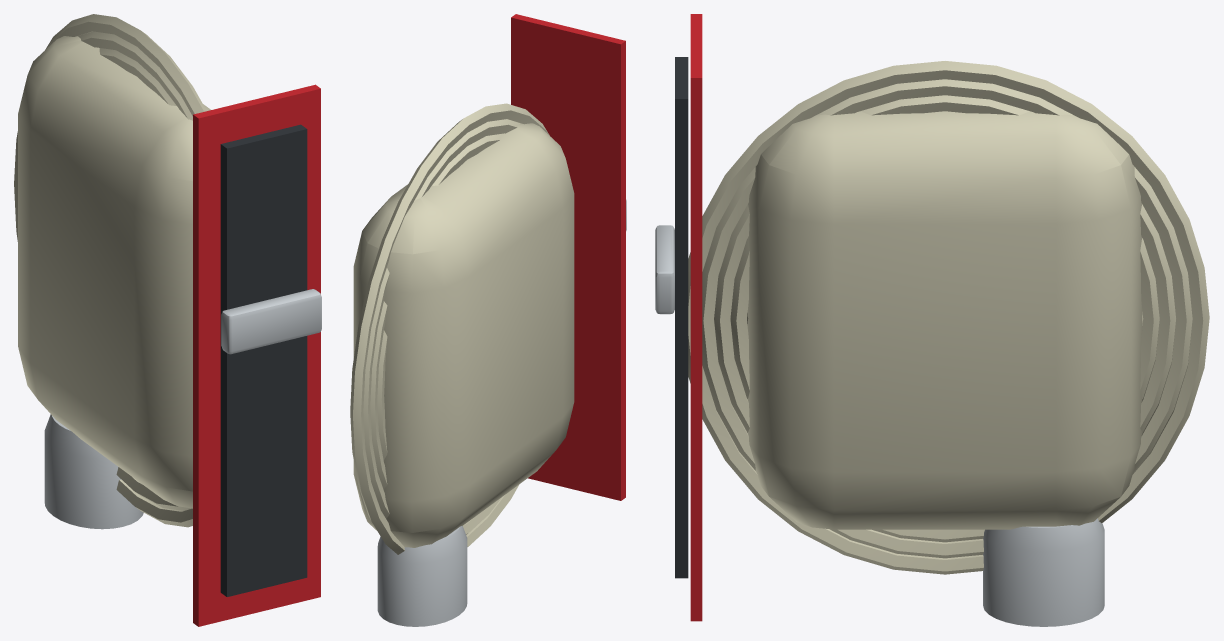
Rendered from ob_closed_case_g5_2.glb.
3 renders of one model, left to right at view 1: azimuth 30°, elevation 25°; view 2: azimuth 150°, elevation 25°; view 3: azimuth 270°, elevation 25°, orthographic. The views are drawn at different scales.
Visible parts, largest first — view 1: ob_closed_case_g5_2; view 2: ob_closed_case_g5_2; view 3: ob_closed_case_g5_2.
Part boxes in pixels (<box>): ob_closed_case_g5_2: <box>14,14,321,626</box>; ob_closed_case_g5_2: <box>350,14,626,626</box>; ob_closed_case_g5_2: <box>655,14,1209,626</box>.
Size of the model in its own units: 0.12 by 0.49 by 0.44.
